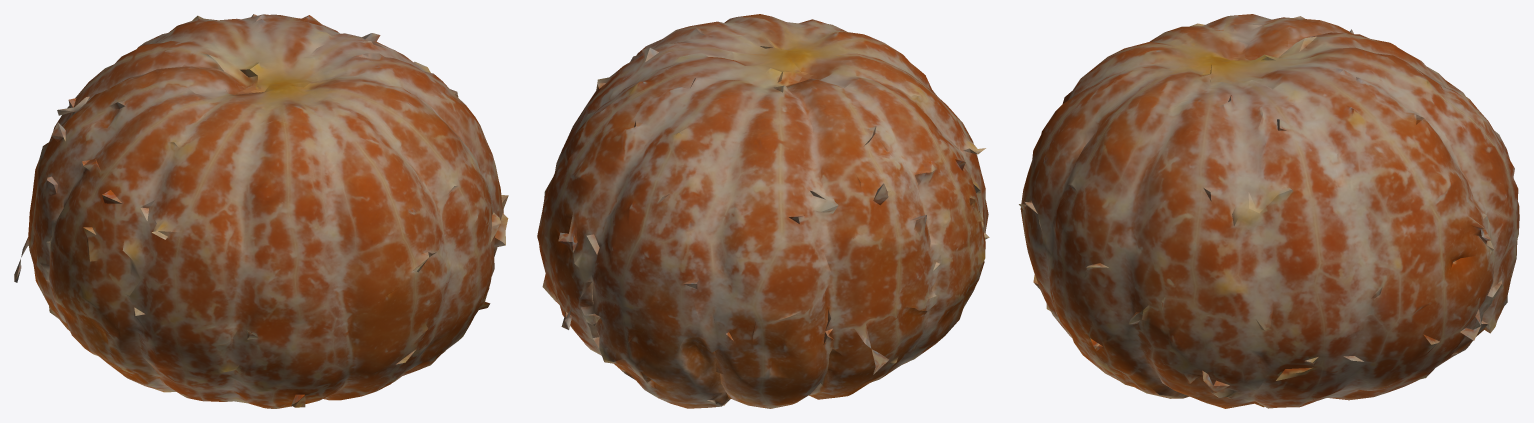
Rendered from Orange.glb.
3 renders of one model, left to right at view 1: azimuth 30°, elevation 25°; view 2: azimuth 150°, elevation 25°; view 3: azimuth 270°, elevation 25°, orthographic. The views are drawn at different scales.
Visible parts, largest first — view 1: mandarinfull; view 2: mandarinfull; view 3: mandarinfull.
Part boxes in pixels (<box>): mandarinfull: <box>14,14,508,408</box>; mandarinfull: <box>537,14,989,408</box>; mandarinfull: <box>1019,14,1519,408</box>.
Size of the model in its own units: 0.3096 by 0.2339 by 0.3241.
Materials: 1 (1 with a texture image).
